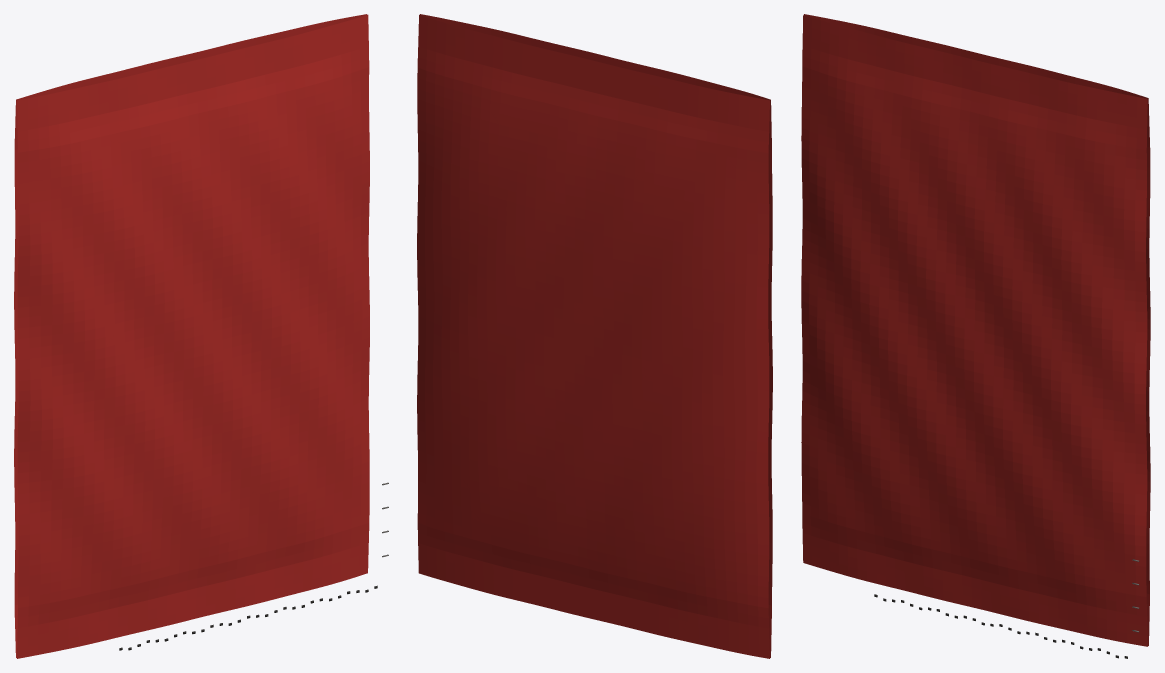
Rendered from BoosterOP.glb.
3 renders of one model, left to right at view 1: azimuth 30°, elevation 25°; view 2: azimuth 150°, elevation 25°; view 3: azimuth 330°, elevation 25°, orthographic.
Parts seen in each view (by area): view 1: FRONT_FOIL, BACK_FOIL; view 2: BACK_FOIL, FRONT_FOIL; view 3: FRONT_FOIL, BACK_FOIL.
Part boxes in pixels (bbox=[...]): FRONT_FOIL: bbox=[17, 15, 369, 658]; BACK_FOIL: bbox=[14, 14, 367, 657]; BACK_FOIL: bbox=[417, 14, 769, 658]; FRONT_FOIL: bbox=[420, 14, 772, 657]; FRONT_FOIL: bbox=[801, 15, 1147, 646]; BACK_FOIL: bbox=[804, 14, 1150, 645].
Bounding box in the file's own units: 1.02 × 1.53 × 0.1358.
